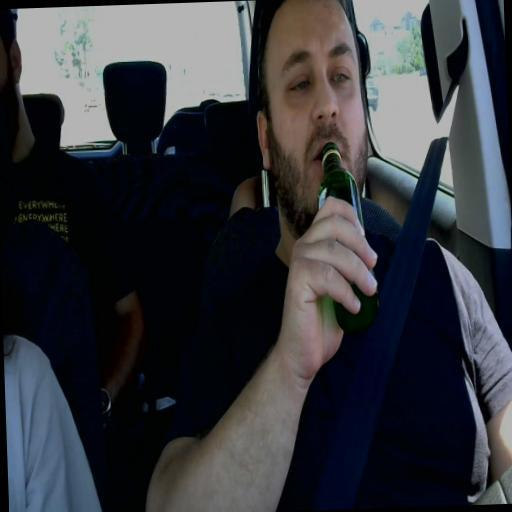Drinking: (256, 2, 382, 337)
